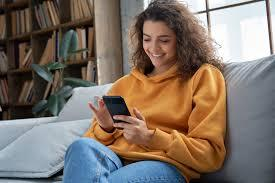Persons: (121, 0, 203, 78)
